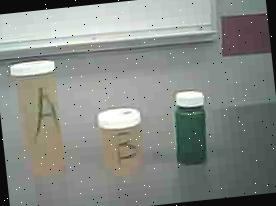Bottle A: (8, 53, 73, 184)
Bottle B: (96, 103, 150, 179)
Bottle C: (168, 84, 216, 176)
